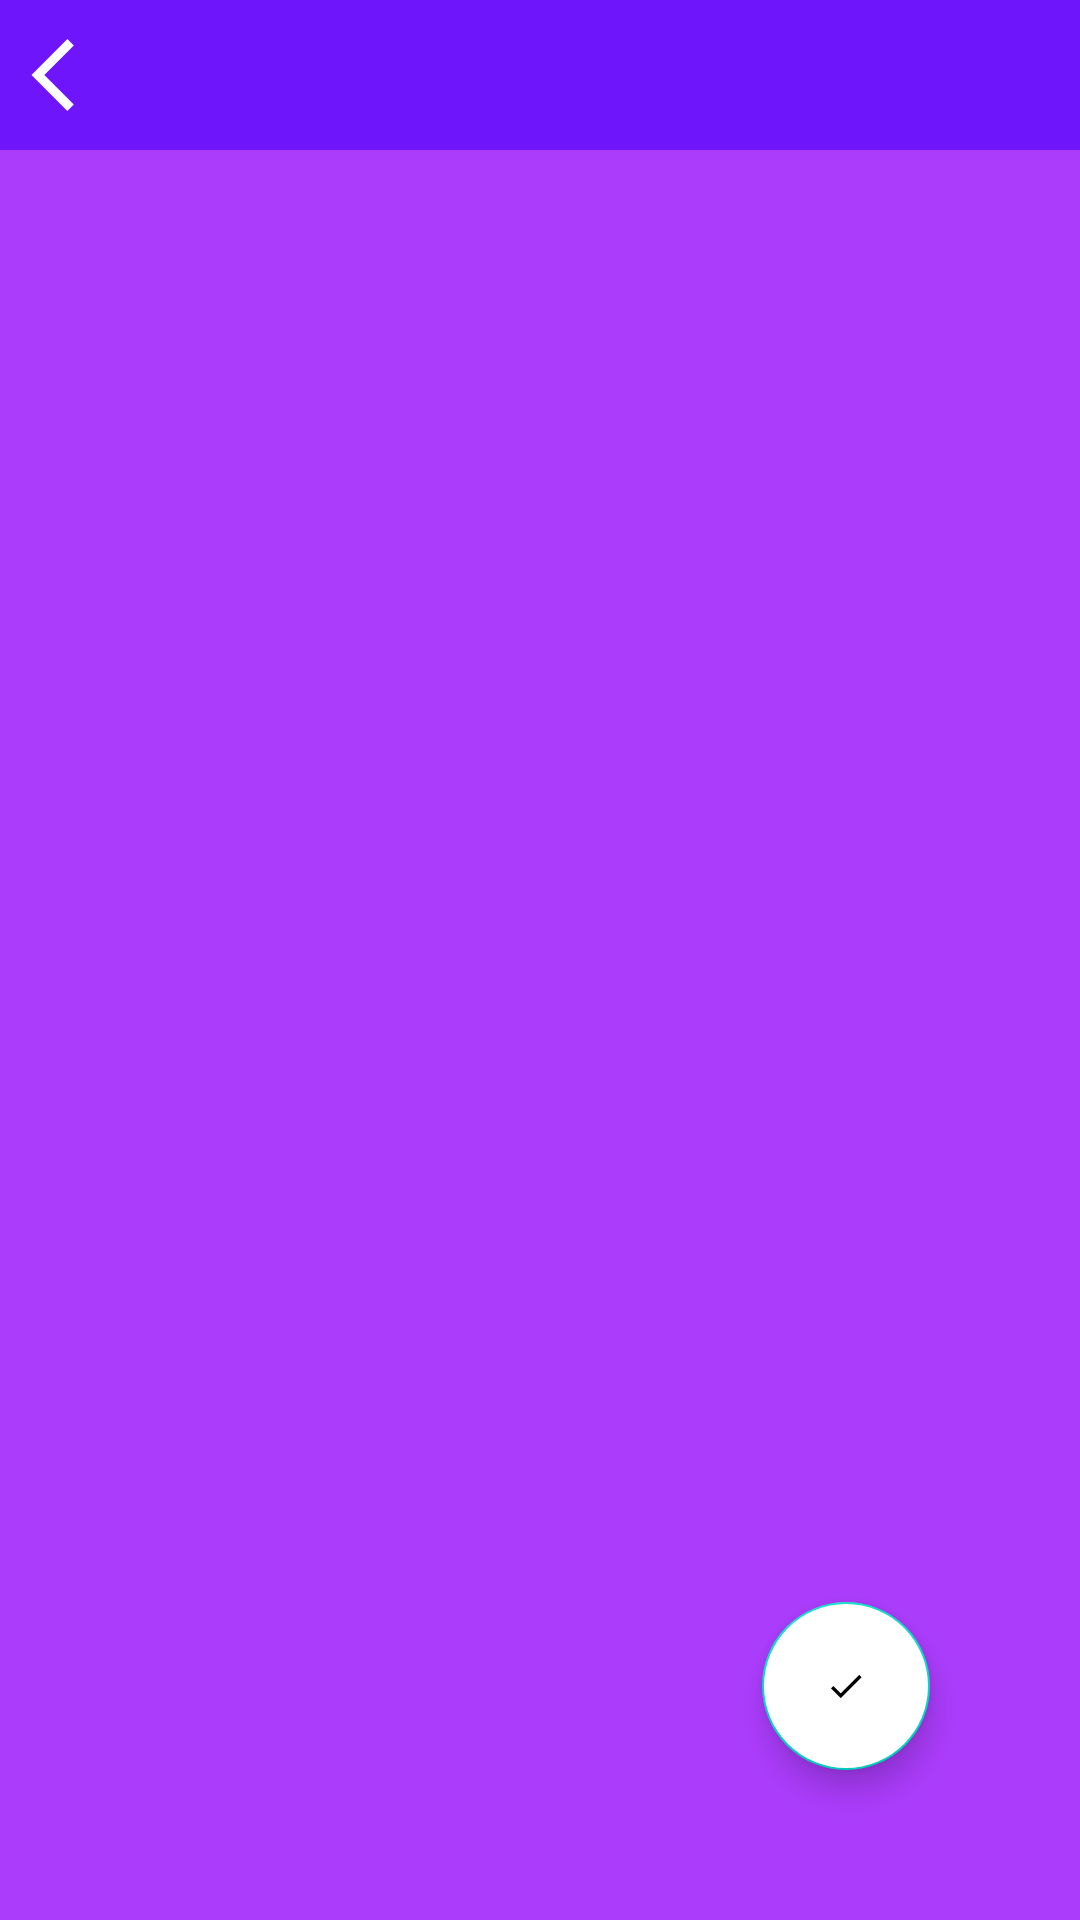

Point at icon controls on the screen. Image size 1080px x 1920px, points as [x,y].
done: [846,1686]
